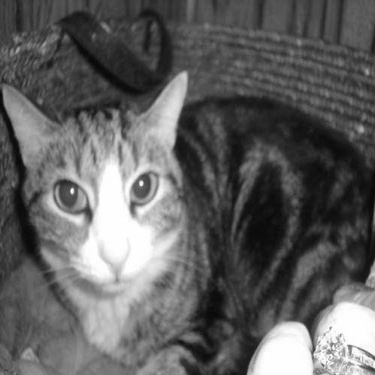cat: (6, 67, 366, 365)
